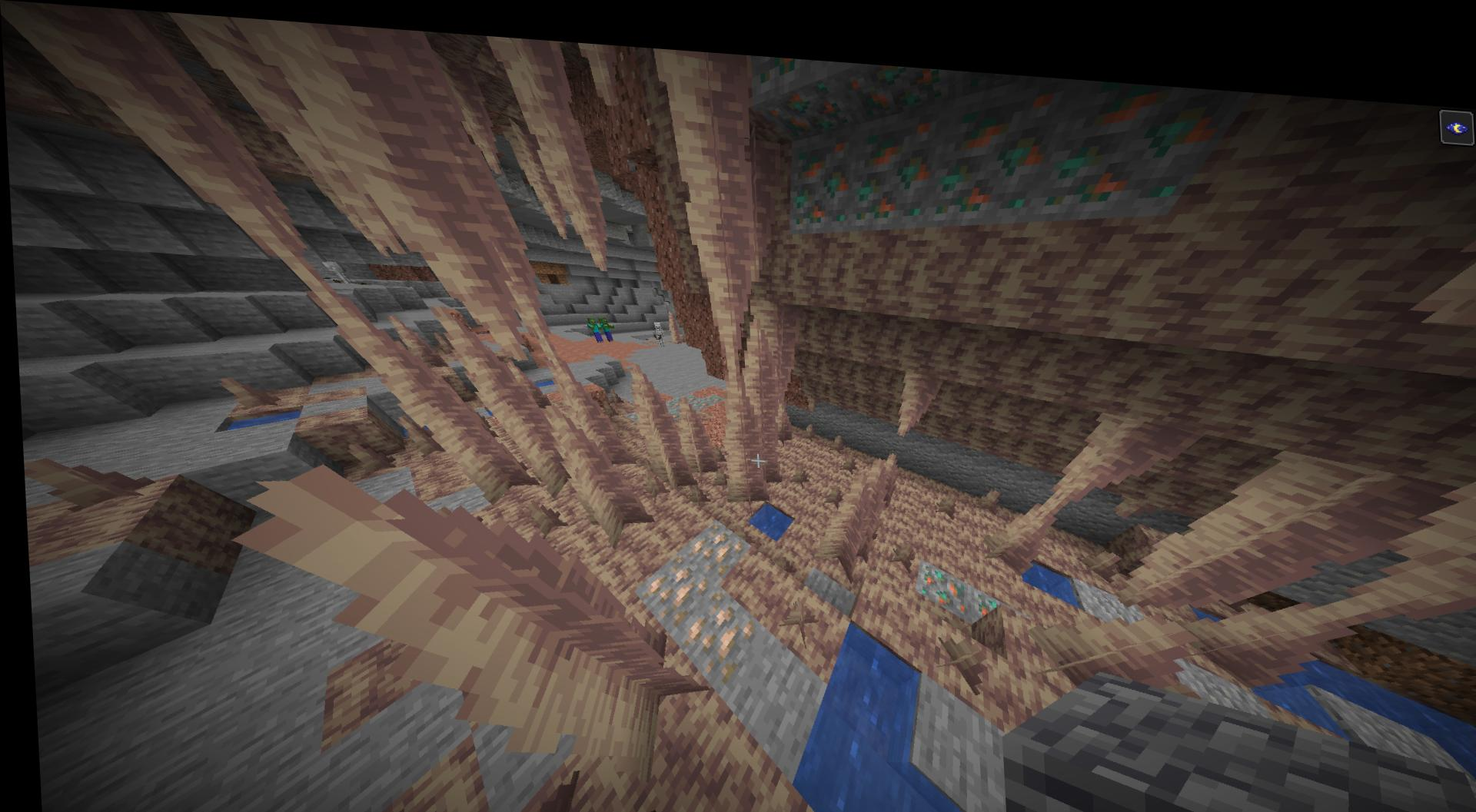iron ore: (673, 582, 754, 666), (635, 548, 701, 612), (687, 507, 753, 565)
